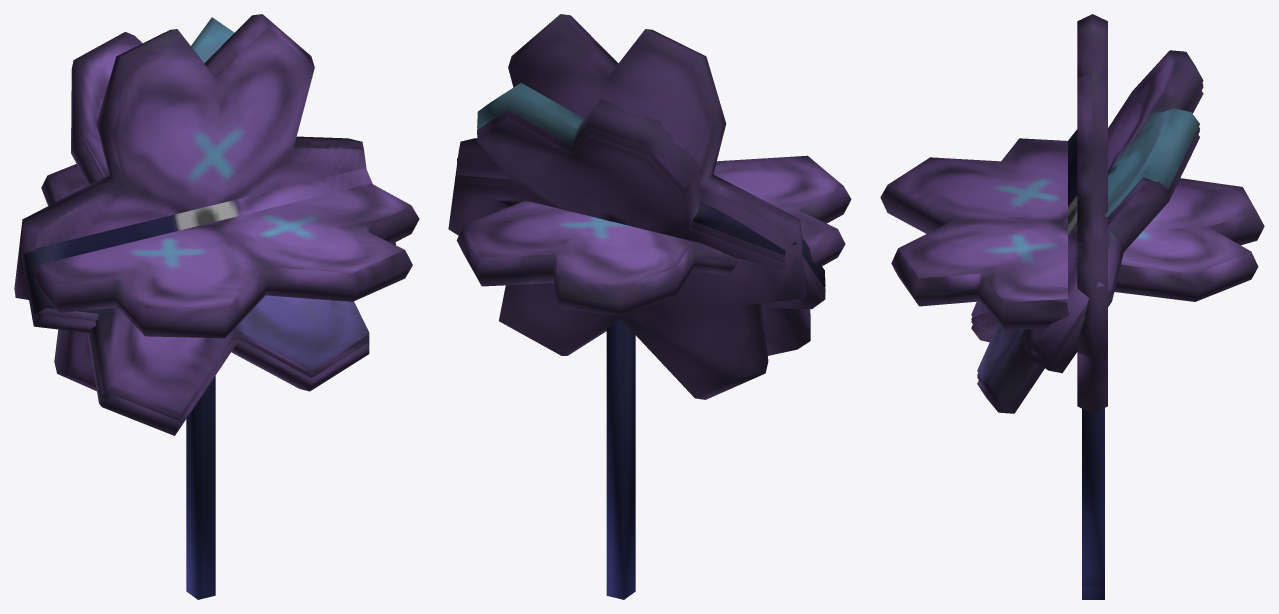
Rendered from 꽃_Prop_fw_00__보류.fbx.
The picture shows the model from 3 angles, left to right: view 1: azimuth 30°, elevation 25°; view 2: azimuth 150°, elevation 25°; view 3: azimuth 270°, elevation 25°; orthographic projection. The views are drawn at different scales.
Visible parts, largest first — view 1: Prop_fw_06, Prop_fw_13, Prop_fw_14, Prop_fw_15, Prop_fw_07, Prop_fw_10, Prop_fw_08, Prop_fw_12, Prop_fw_11, Prop_fw_16, Prop_fw_17; view 2: Prop_fw_06, Prop_fw_10, Prop_fw_14, Prop_fw_07, Prop_fw_15, Prop_fw_13, Prop_fw_12, Prop_fw_08, Prop_fw_11, Prop_fw_16; view 3: Prop_fw_14, Prop_fw_13, Prop_fw_07, Prop_fw_15, Prop_fw_10, Prop_fw_16, Prop_fw_08, Prop_fw_12, Prop_fw_11.
Boxes of the visible parts, x1,y1,x2,y2 form: Prop_fw_06: (36,27,366,582); Prop_fw_13: (21,17,372,413); Prop_fw_14: (40,164,410,598); Prop_fw_15: (33,176,419,597); Prop_fw_07: (14,14,363,391); Prop_fw_10: (25,143,369,599); Prop_fw_08: (22,15,305,555); Prop_fw_12: (24,139,395,420); Prop_fw_11: (21,136,395,416); Prop_fw_16: (34,189,215,593); Prop_fw_17: (198,459,206,598); Prop_fw_06: (448,27,792,397); Prop_fw_10: (457,117,825,599); Prop_fw_14: (463,155,843,287); Prop_fw_07: (459,14,808,399); Prop_fw_15: (460,186,851,316); Prop_fw_13: (457,83,825,567); Prop_fw_12: (457,113,825,590); Prop_fw_08: (508,14,800,295); Prop_fw_11: (457,110,825,332); Prop_fw_16: (456,227,548,282); Prop_fw_14: (888,138,1256,302); Prop_fw_13: (971,50,1203,586); Prop_fw_07: (1077,14,1107,413); Prop_fw_15: (883,185,1262,598); Prop_fw_10: (971,91,1203,599); Prop_fw_16: (880,186,1264,297); Prop_fw_08: (1077,21,1107,211); Prop_fw_12: (971,86,1203,407); Prop_fw_11: (971,83,1203,404).
Bounding box in the file's own units: 0.8928 × 1.36 × 0.8501.
